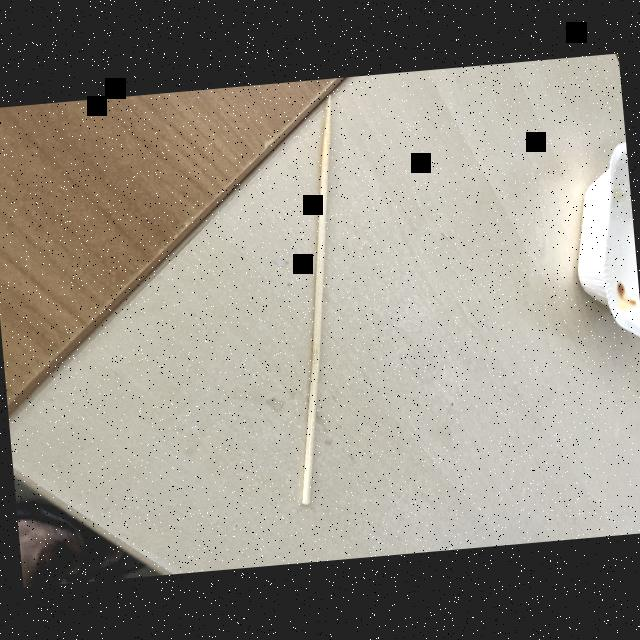cardboard_bowl: (546, 127, 640, 341)
stick: (234, 81, 386, 518)
